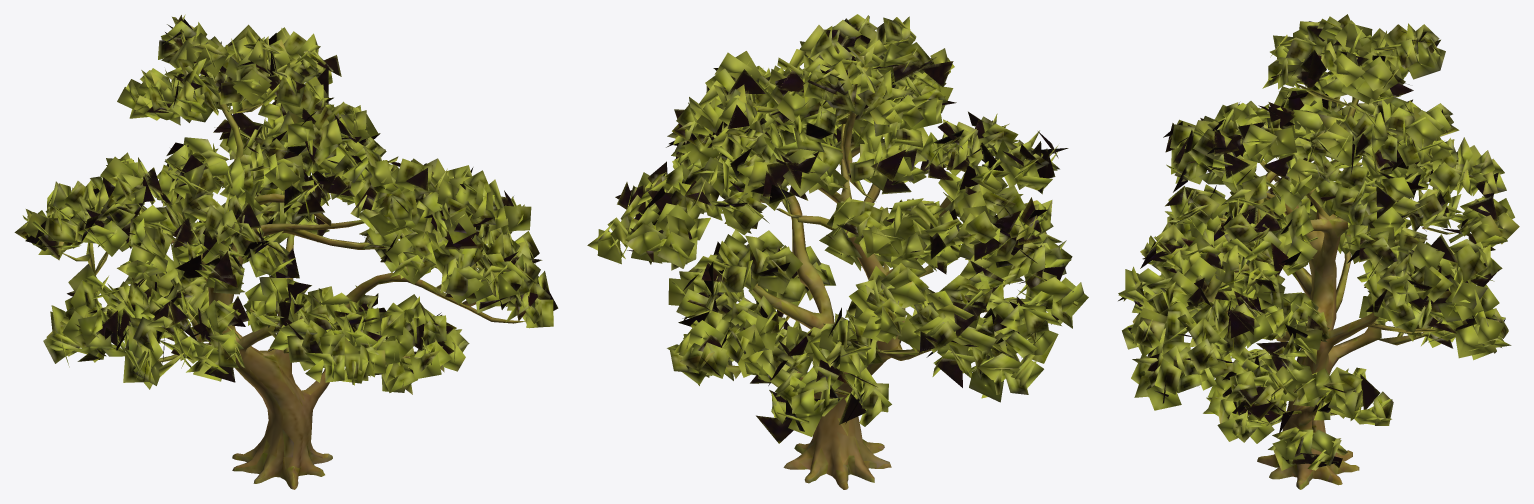
Rendered from meadow-tree.glb.
3 renders of one model, left to right at view 1: azimuth 30°, elevation 25°; view 2: azimuth 150°, elevation 25°; view 3: azimuth 270°, elevation 25°, orthographic. The views are drawn at different scales.
Bounding box in the file's own units: 1 × 0.9961 × 0.8633.
Materials: 1 (1 with a texture image).
